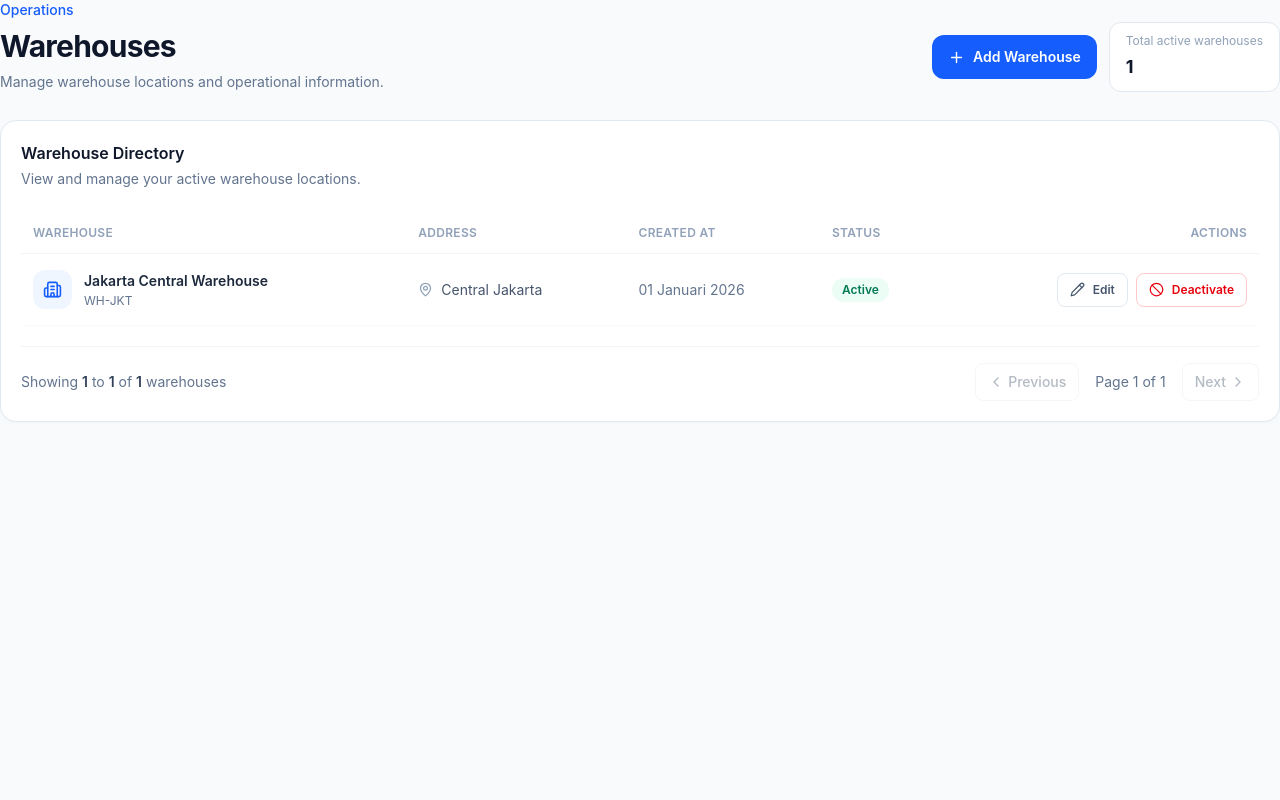
WarehousesPage › displays an error when warehouse deactivation fails
Expected: the text "Jakarta Central Warehouse" is shown, [84,270,268,290]
Click the button with aria-label "Deactivate Jakarta Central Warehouse".
click(1191, 290)  # box [1136,272,1247,306]
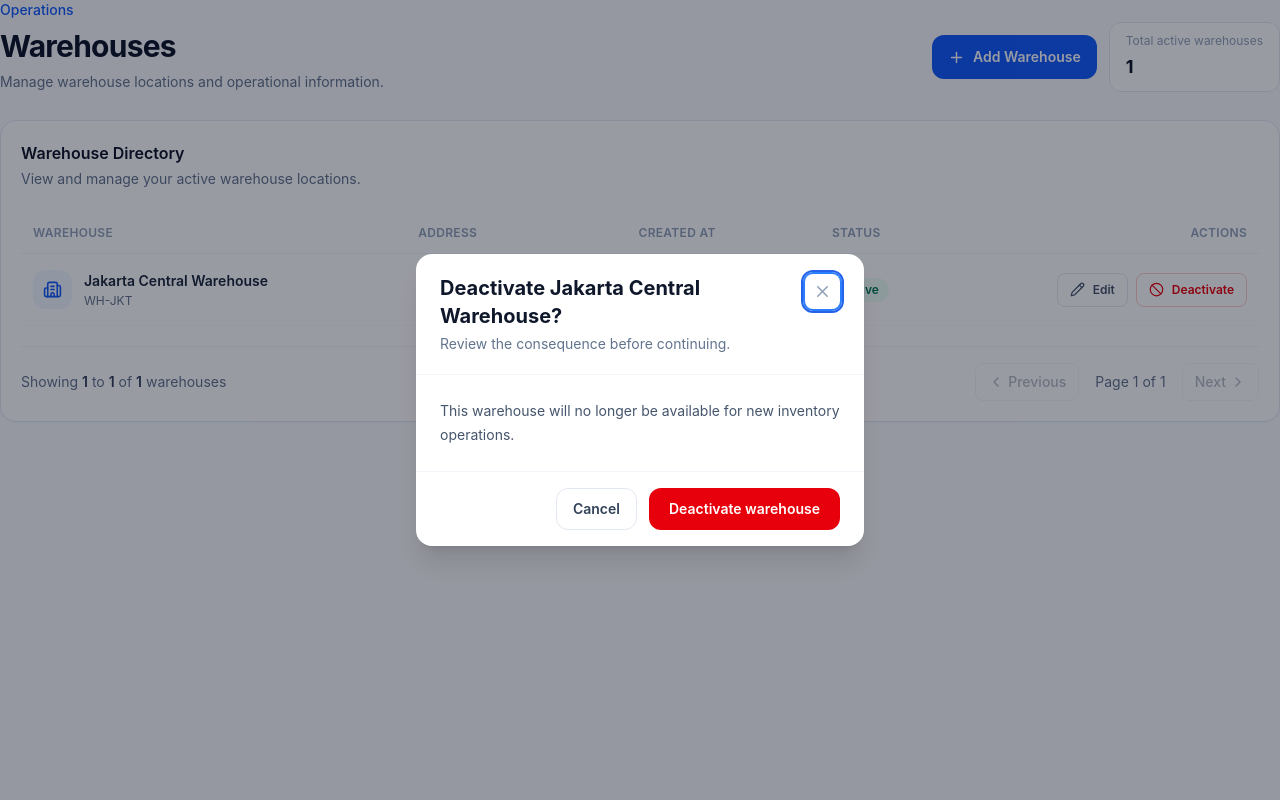
Click the button "Deactivate warehouse".
click(744, 509)  # box [649,488,840,530]
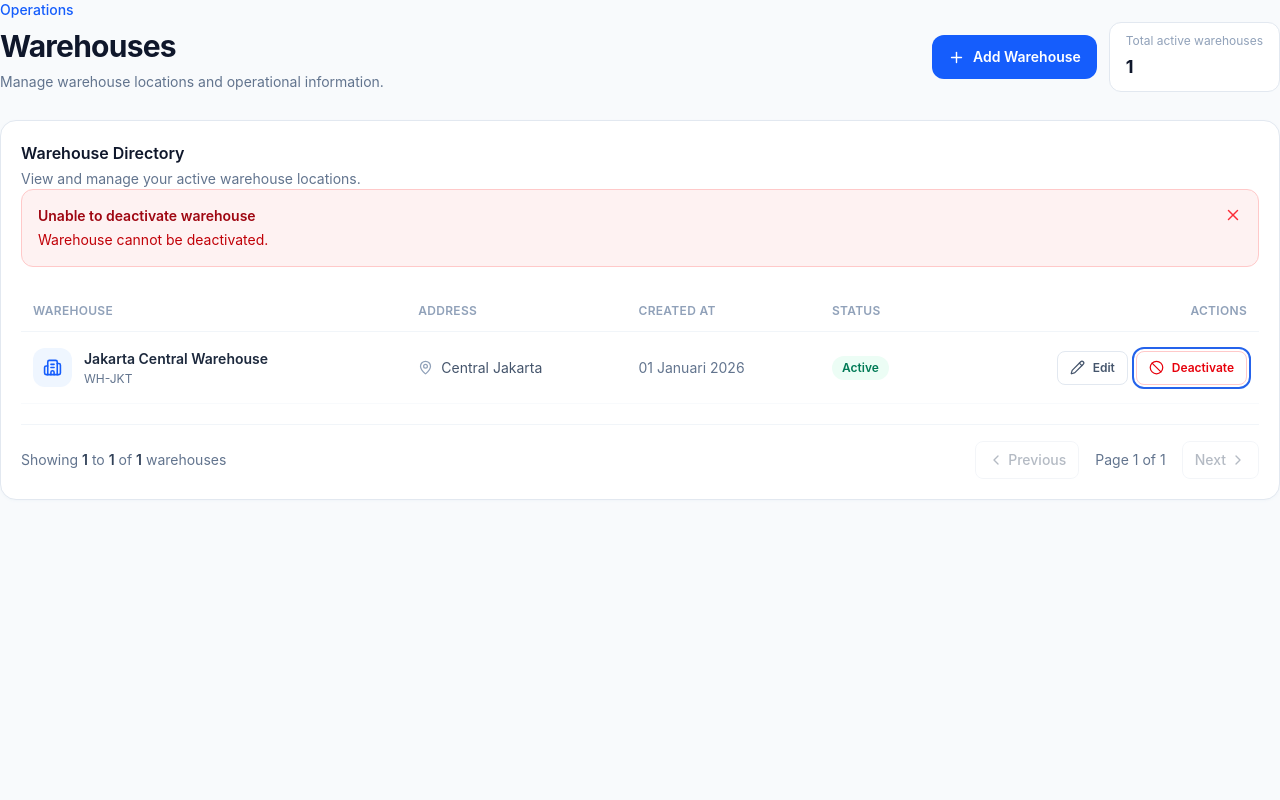
Result: the message shows "Unable to deactivate warehouse" at [38,207,256,224]
Result: the message shows "Warehouse cannot be deactivated." at [38,231,268,248]
